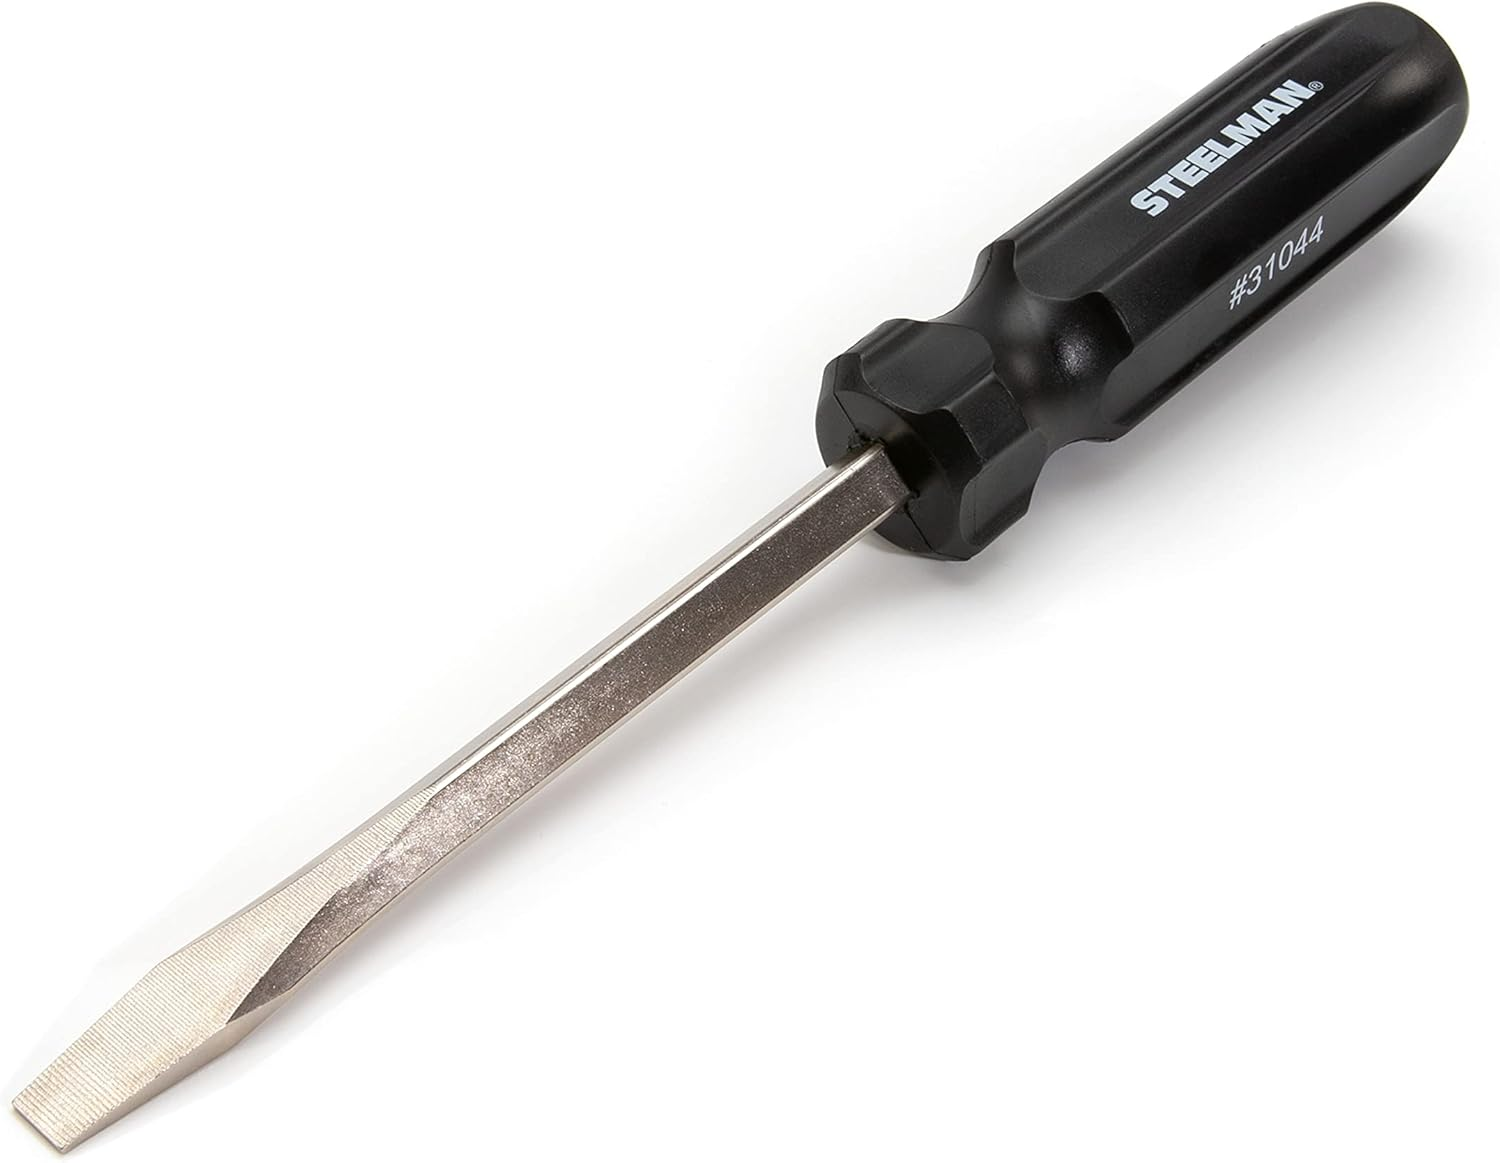screwdriver: (10, 1, 1471, 1154)
